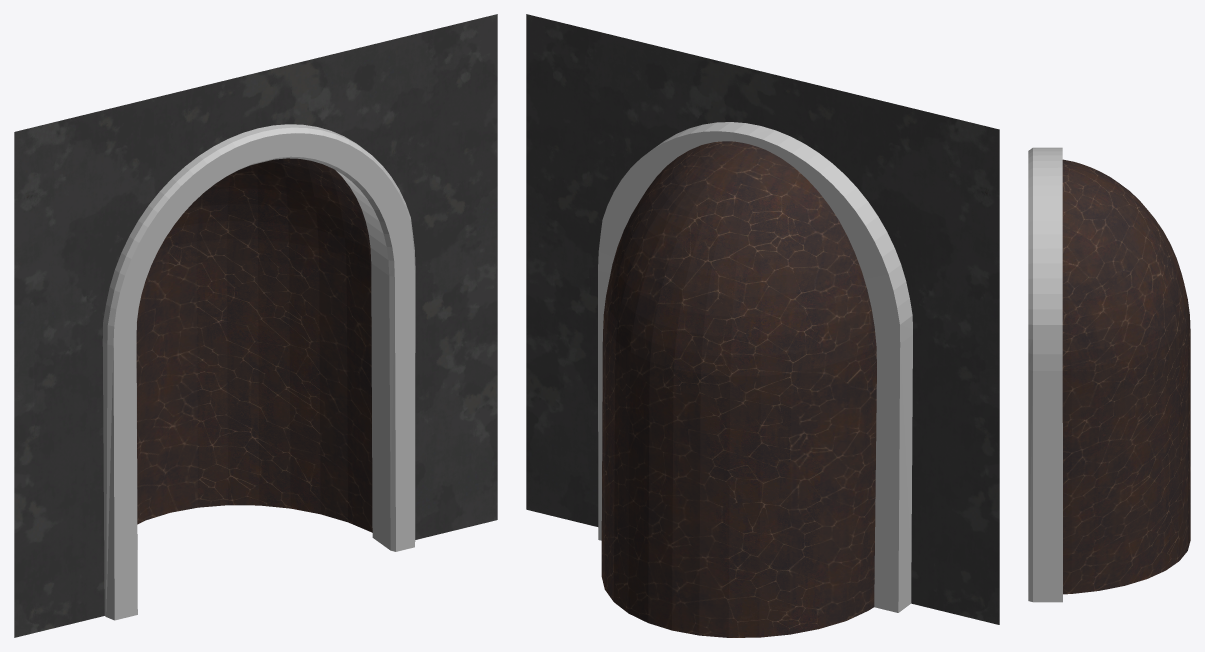
File: AlcoveArchway_02_Lod0.fbx
3 views of the same model, side by side, from view 1: azimuth 30°, elevation 25°; view 2: azimuth 150°, elevation 25°; view 3: azimuth 270°, elevation 25° (orthographic). The views are drawn at different scales.
Parts seen in each view (by area): view 1: S_Sunforged_AlcoveArchway_02.mo; view 2: S_Sunforged_AlcoveArchway_02.mo; view 3: S_Sunforged_AlcoveArchway_02.mo.
Part boxes in pixels (<box>): S_Sunforged_AlcoveArchway_02.mo: <box>14,14,497,637</box>; S_Sunforged_AlcoveArchway_02.mo: <box>526,14,999,637</box>; S_Sunforged_AlcoveArchway_02.mo: <box>1028,147,1190,602</box>.
Bounding box in the file's own units: 1080 × 1080 × 373.
